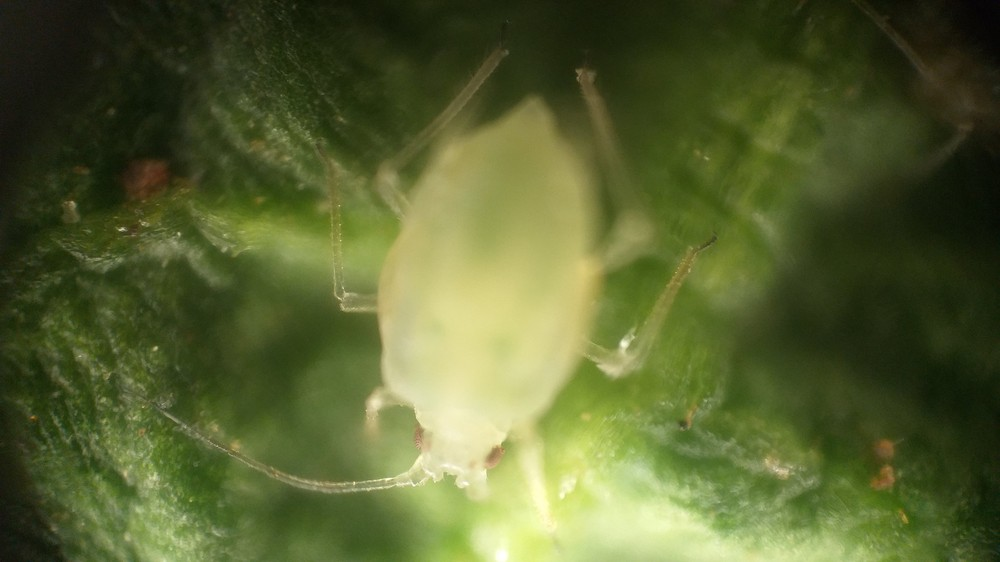Pulgon: (211, 43, 750, 554)
